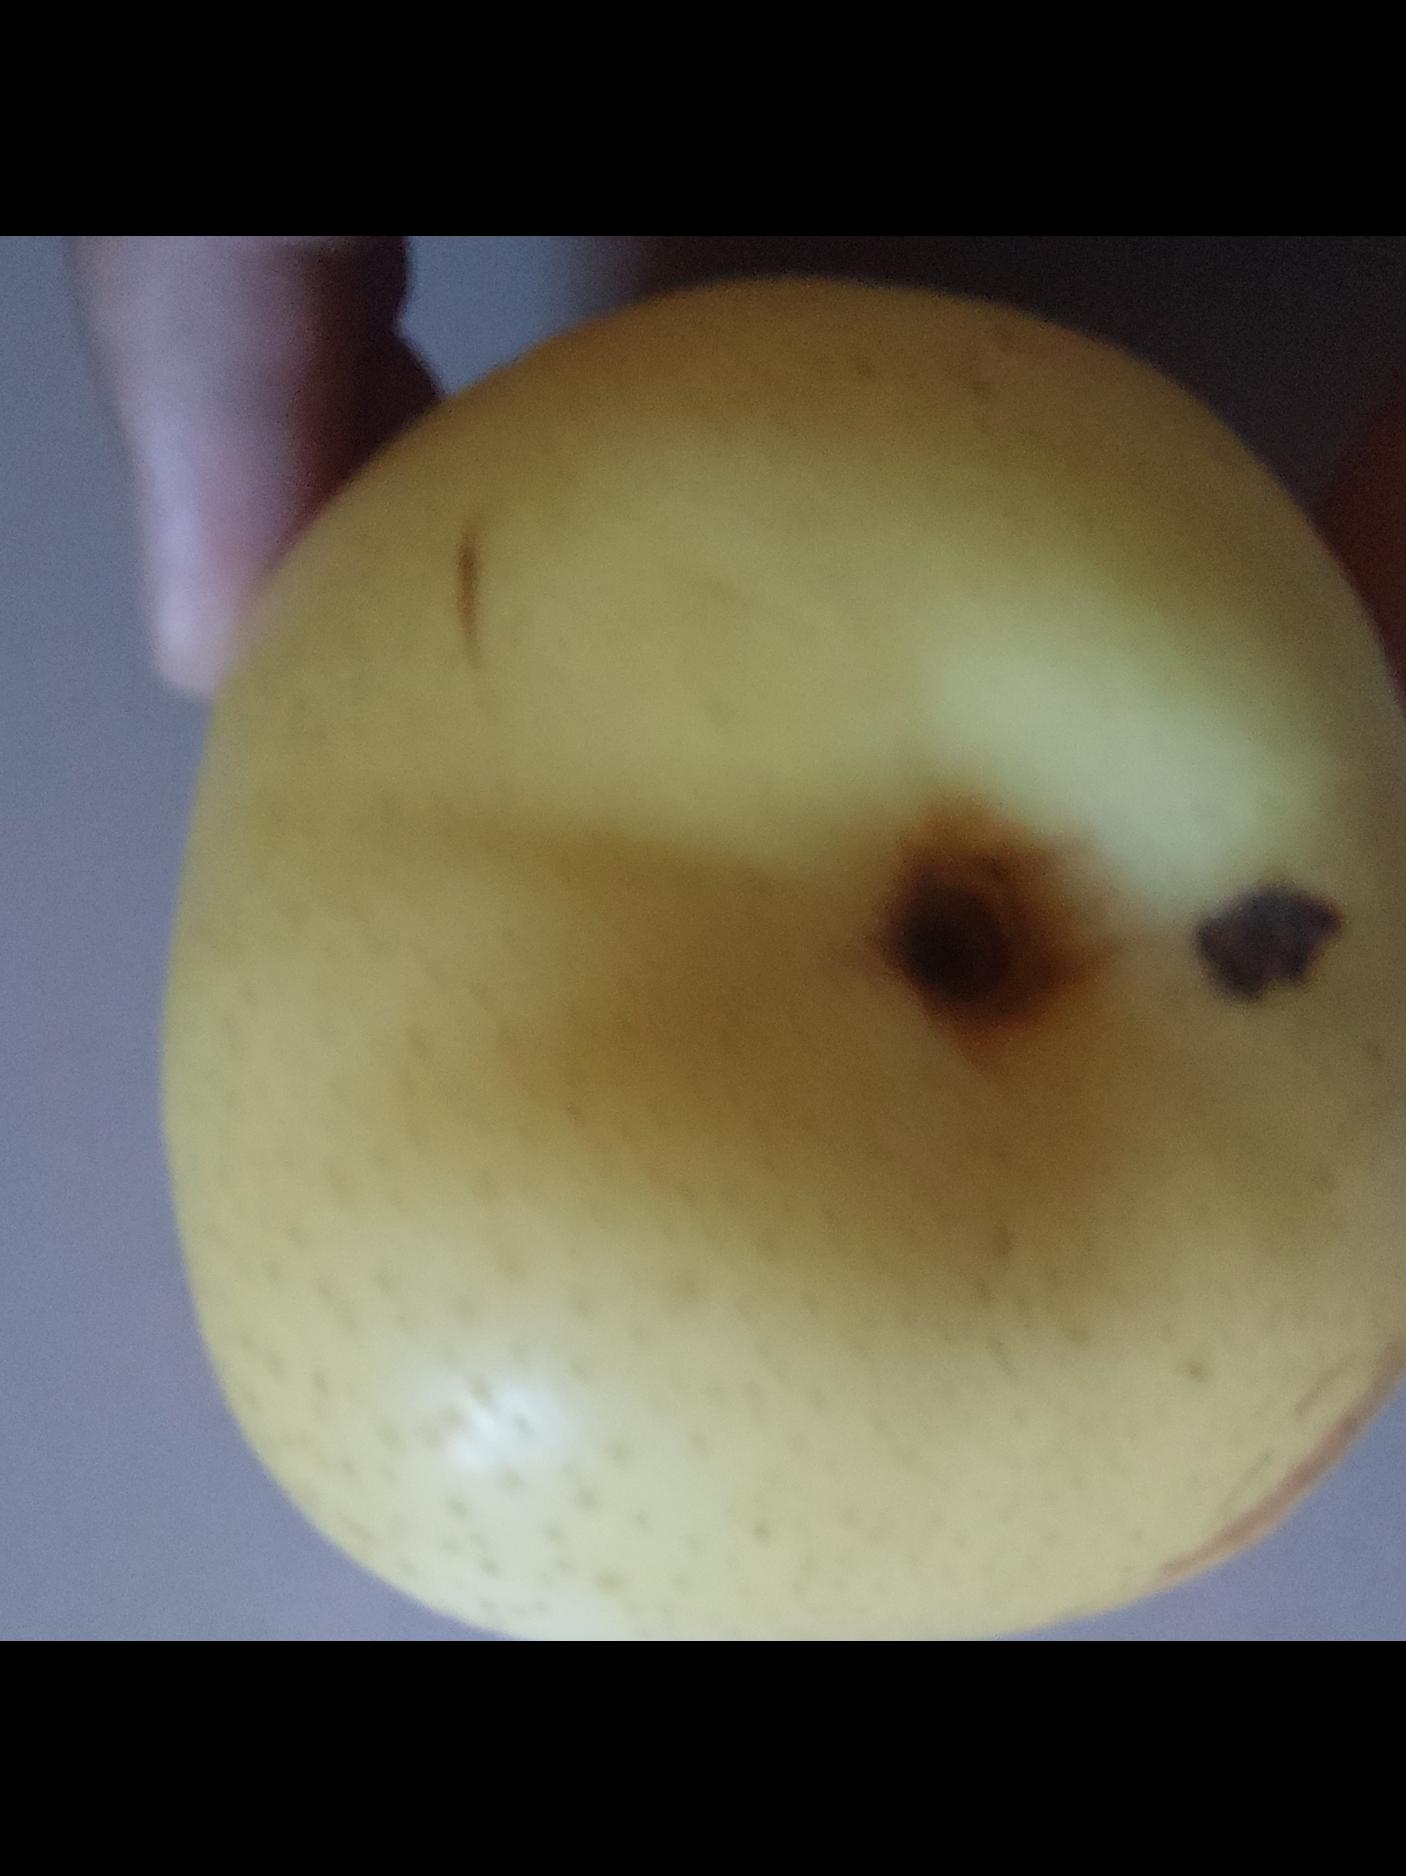Good Pear: (154, 278, 1406, 1641)
